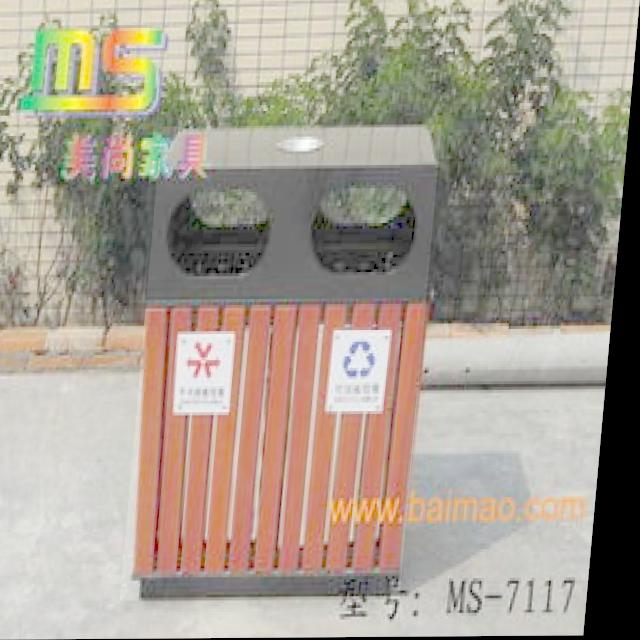garbage_bin: (131, 125, 445, 601)
